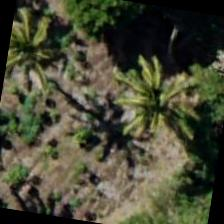Kelapa_Sawit: (112, 53, 216, 156), (2, 5, 78, 104), (131, 144, 219, 223), (0, 131, 73, 218)
